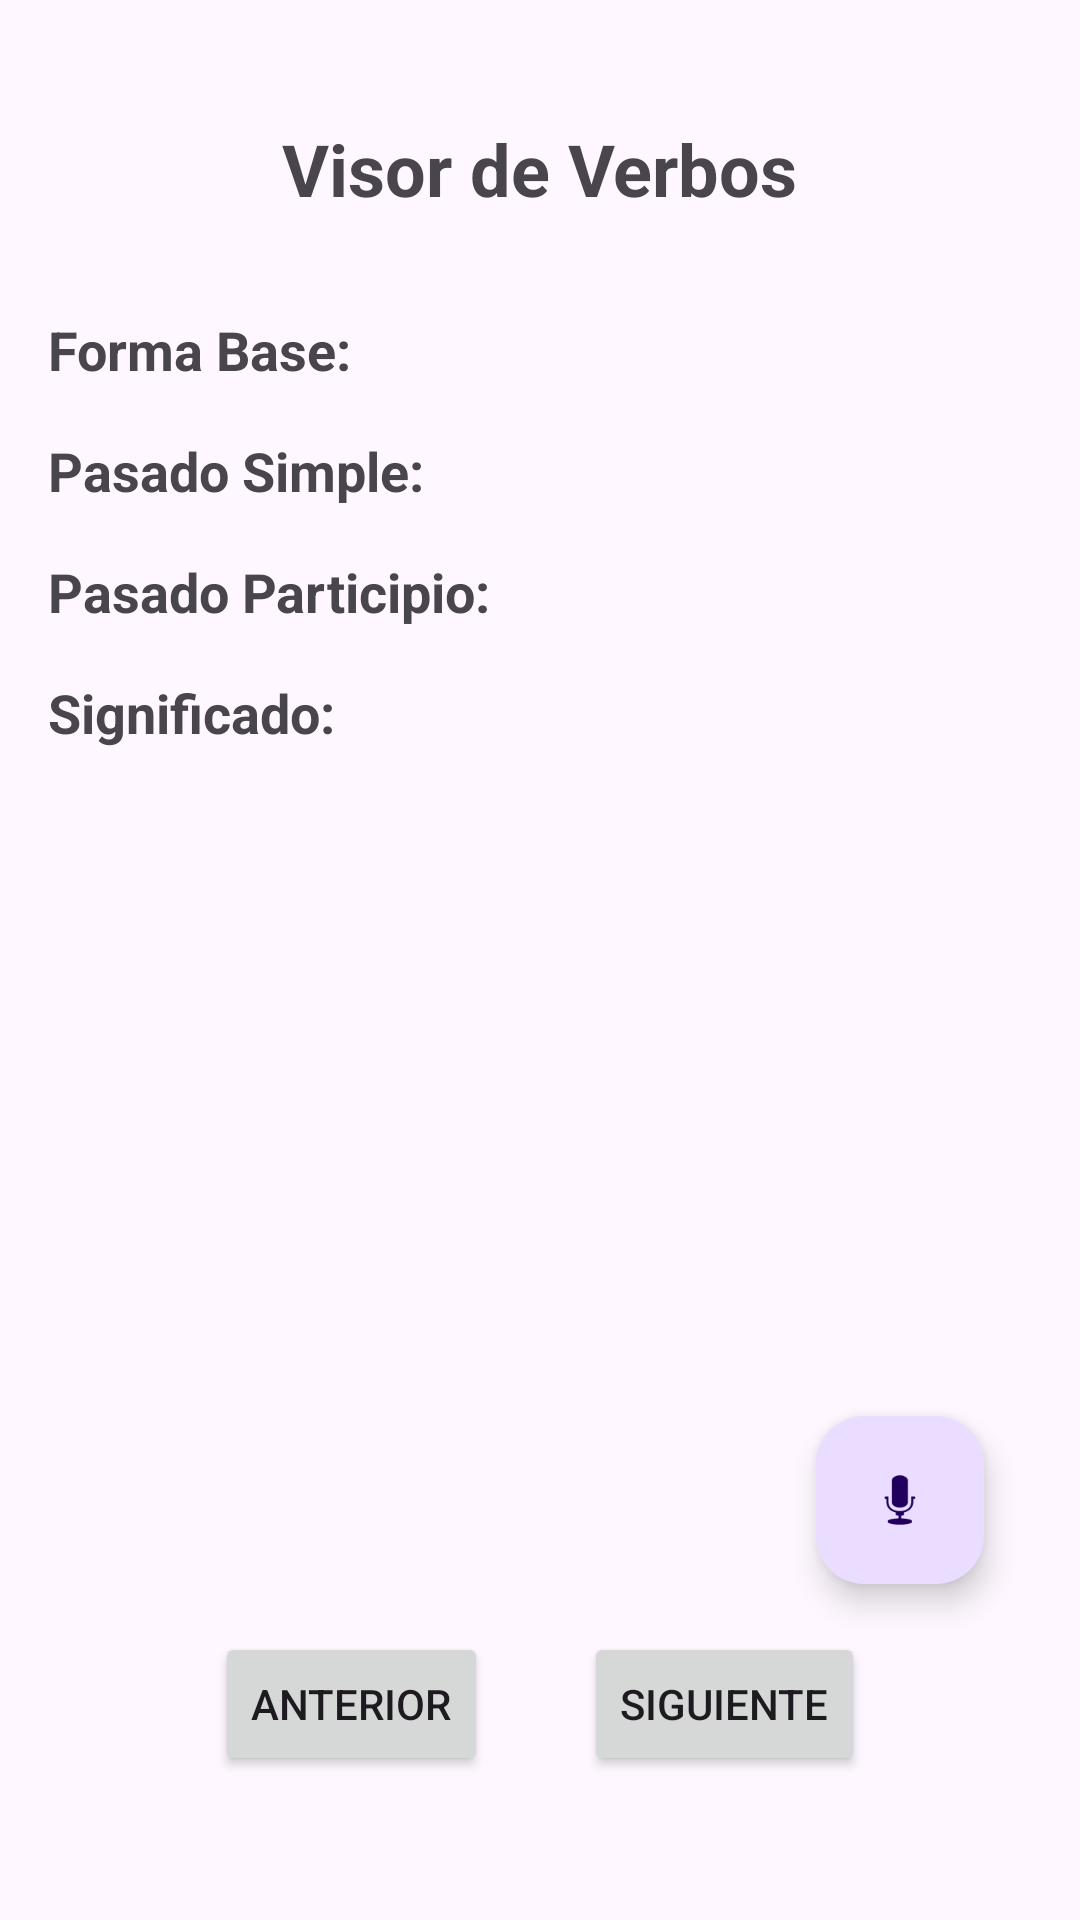

Icons on this 1080w x 1920h Android screen, each with its box as (x1, y1, x2, y2):
Leer verbo en voz alta: (816, 1416, 984, 1584)
